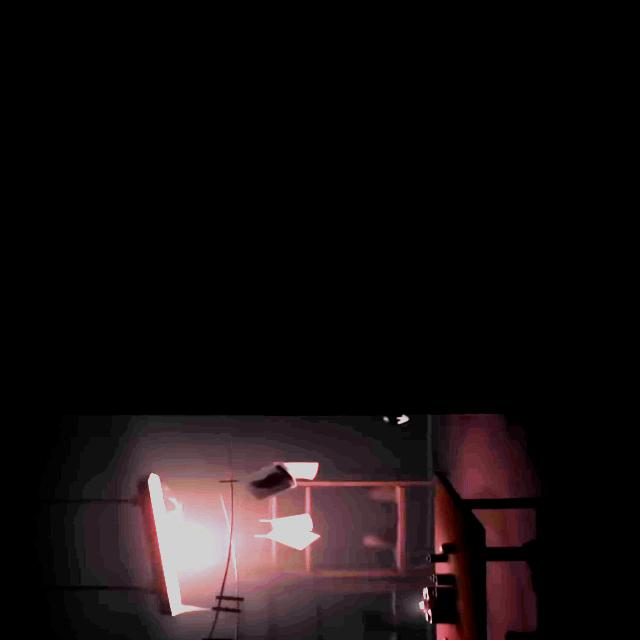boy: (382, 414, 409, 424)
